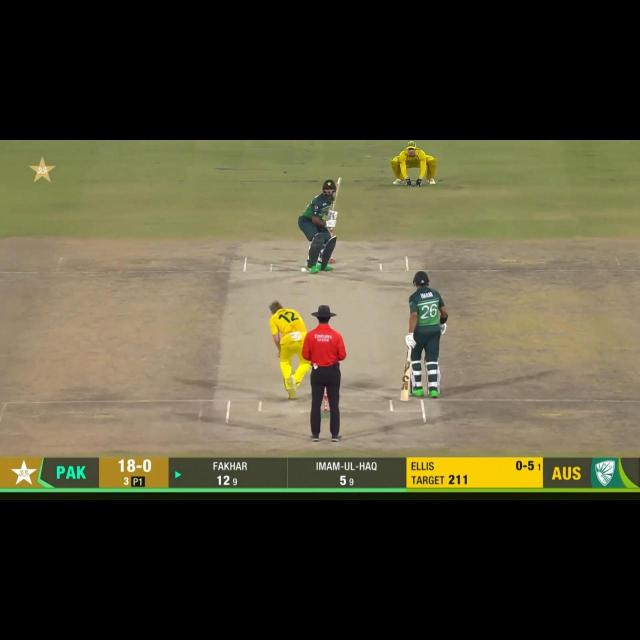bat: (398, 361, 414, 404), (330, 178, 345, 212)
toe: (333, 176, 345, 186), (400, 395, 409, 402)
